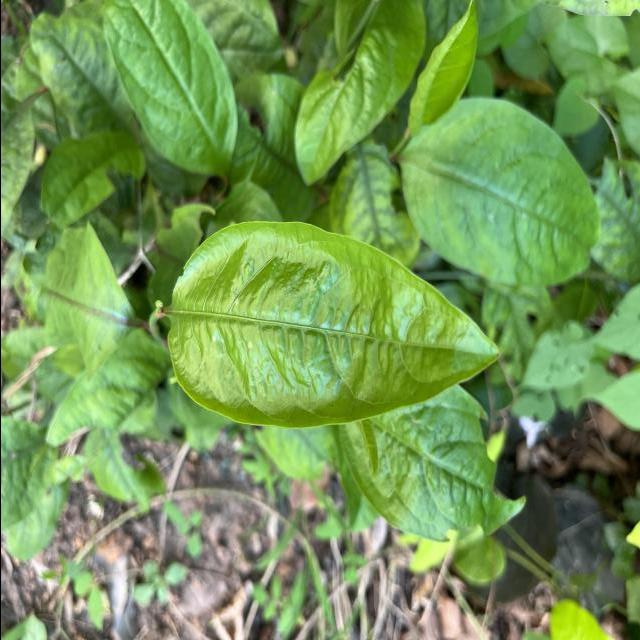Plumbago indica: (158, 216, 505, 434), (398, 94, 603, 293), (336, 390, 528, 544), (100, 2, 243, 176)
